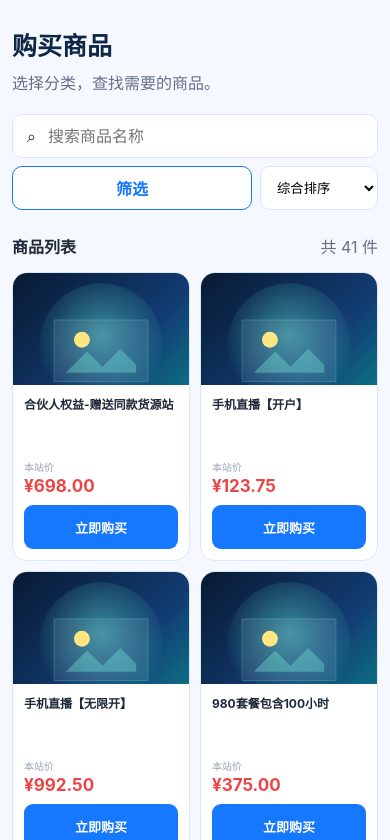
Test: F02 分类与搜索结果 › 提供移动端筛选开关
What coordinates should you click on to do the following:
click the button "筛选"
I would click on:
 (132, 188)
Its box is 12,166 -> 252,210.
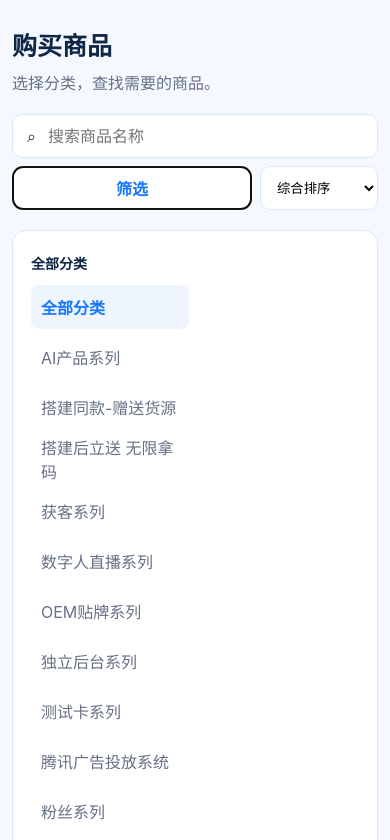
Now the button "筛选" is expanded, box 12,166 -> 252,210
